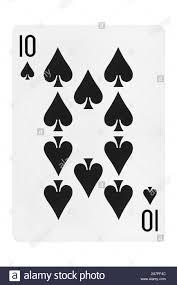ten of spades: (13, 28, 166, 241)
